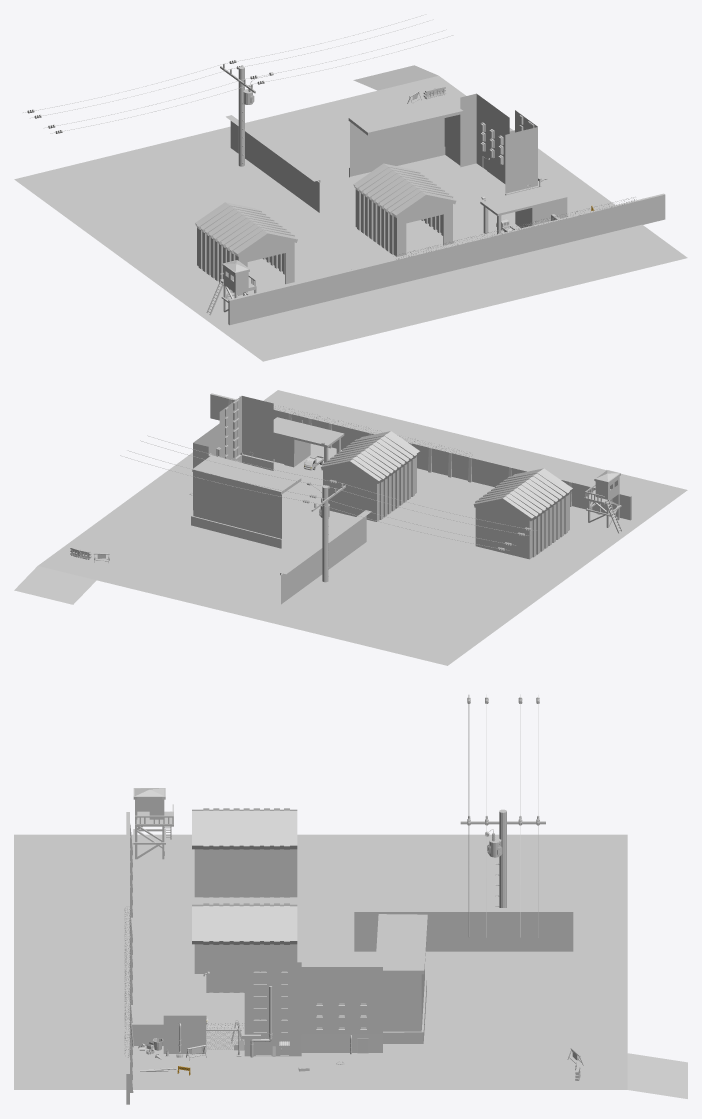
Rendered from Map1.fbx.
The picture shows the model from 3 angles, top to bottom: view 1: azimuth 30°, elevation 25°; view 2: azimuth 150°, elevation 25°; view 3: azimuth 270°, elevation 25°; orthographic projection. The views are drawn at different scales.
Visible parts, largest first — view 1: Ground, Ground.001, Wall, Building 1.001, Plane, Catenary.005, Building 2, Building 1, WatchTower; view 2: Ground, Ground.001, Building 1.001, Wall, Building 1, Plane, Catenary.005, Building 2, WatchTower; view 3: Ground, Ground.001, Building 1.001, Plane, Building 1, Building 2, Catenary.005, WatchTower, Wall, Barbed Wire.
Part boxes in pixels (x1,y1,x2,y2): Ground: (14, 65, 687, 361); Ground.001: (195, 163, 456, 295); Wall: (228, 193, 665, 325); Building 1.001: (348, 93, 509, 183); Plane: (226, 115, 320, 212); Catenary.005: (22, 14, 453, 166); Building 2: (480, 184, 567, 233); Building 1: (505, 110, 541, 195); WatchTower: (220, 260, 256, 312); Ground: (14, 390, 687, 665); Ground.001: (321, 431, 572, 559); Building 1.001: (191, 420, 301, 548); Wall: (210, 393, 631, 520); Building 1: (219, 396, 274, 470); Plane: (280, 510, 371, 604); Catenary.005: (120, 435, 536, 582); Building 2: (273, 417, 344, 467); WatchTower: (584, 470, 621, 527); Ground: (14, 834, 687, 1098); Ground.001: (192, 808, 297, 992); Building 1.001: (301, 914, 427, 1053); Plane: (354, 908, 573, 951); Building 1: (206, 962, 301, 1056); Building 2: (132, 974, 206, 1053); Catenary.005: (460, 694, 545, 937); WatchTower: (133, 788, 173, 859); Wall: (126, 812, 133, 1104); Barbed Wire: (124, 906, 130, 1057).
Size of the model in its own units: 333 by 75.41 by 331.
